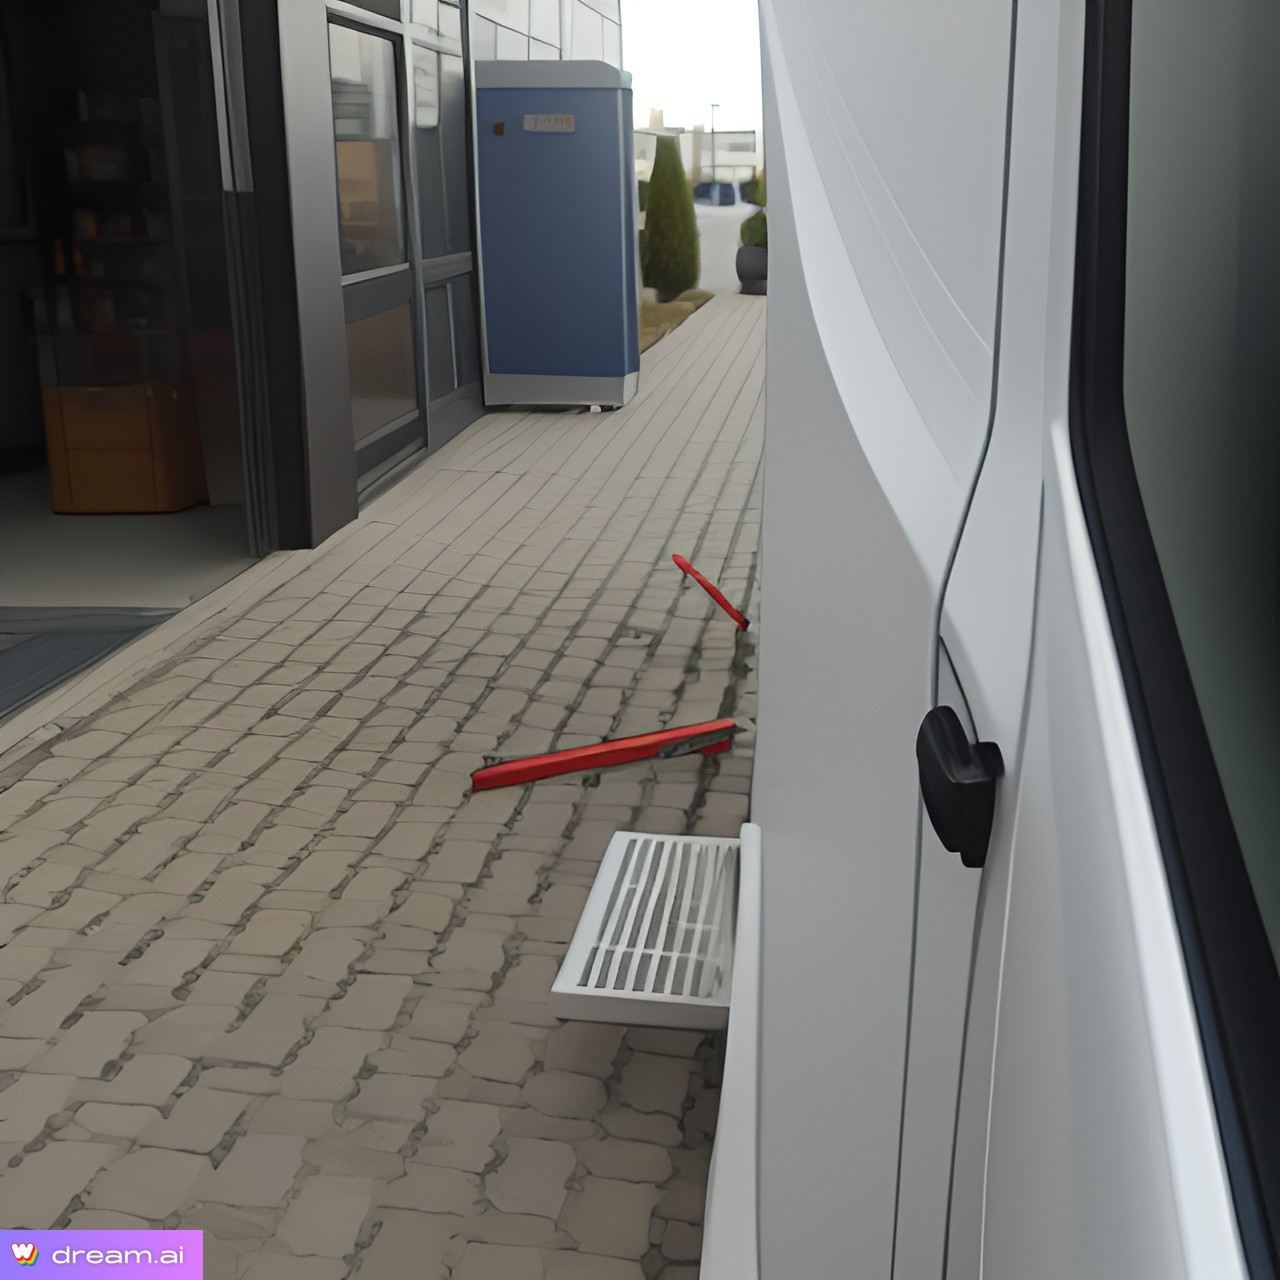step_front: (549, 810, 764, 1073)
